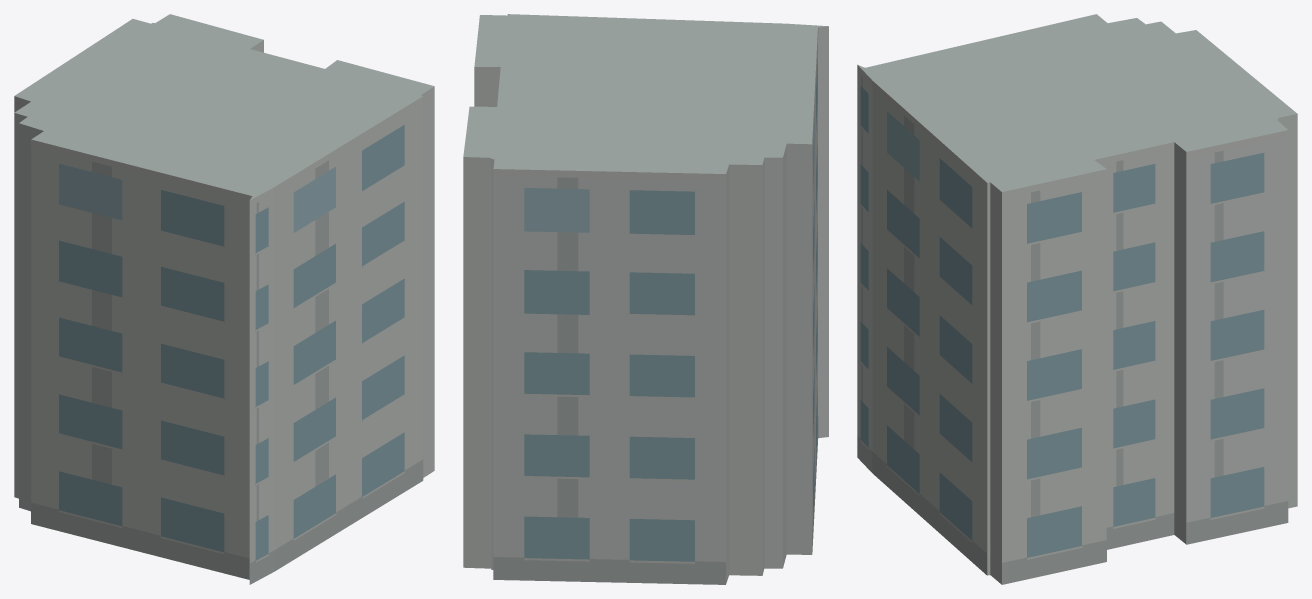
File: survey-upis-32953296.glb
3 renders of one model, left to right at view 1: azimuth 30°, elevation 25°; view 2: azimuth 150°, elevation 25°; view 3: azimuth 270°, elevation 25°, orthographic. The views are drawn at different scales.
Parts seen in each view (by area): view 1: survey-upis-32953296.tmp; view 2: survey-upis-32953296.tmp; view 3: survey-upis-32953296.tmp.
Part boxes in pixels (x1=…): survey-upis-32953296.tmp: x1=14, y1=14, x2=434, y2=584; survey-upis-32953296.tmp: x1=463, y1=14, x2=828, y2=584; survey-upis-32953296.tmp: x1=857, y1=14, x2=1297, y2=584.
Size of the model in its own units: 14.11 by 14.5 by 14.74.
